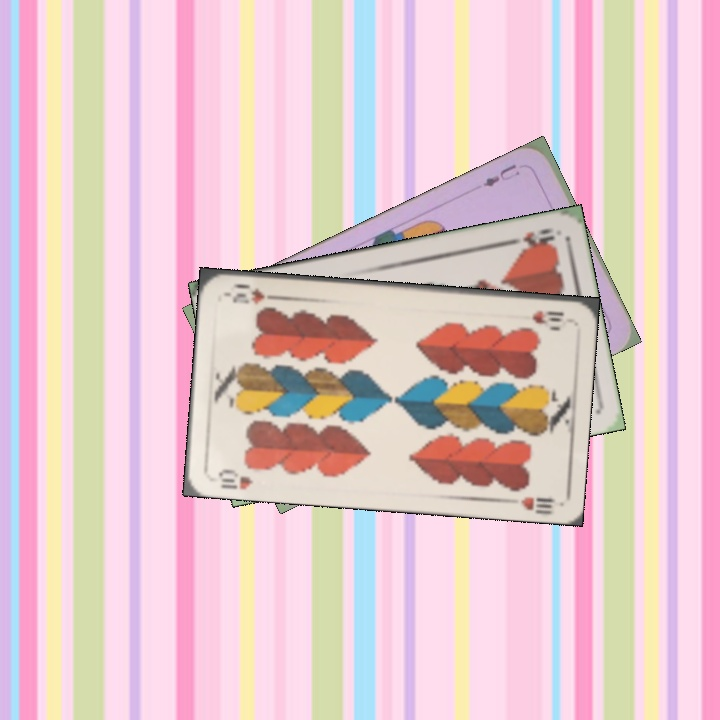EU: (478, 159, 522, 190)
H10: (214, 465, 256, 492), (528, 306, 567, 327)
HO: (501, 224, 558, 251)
